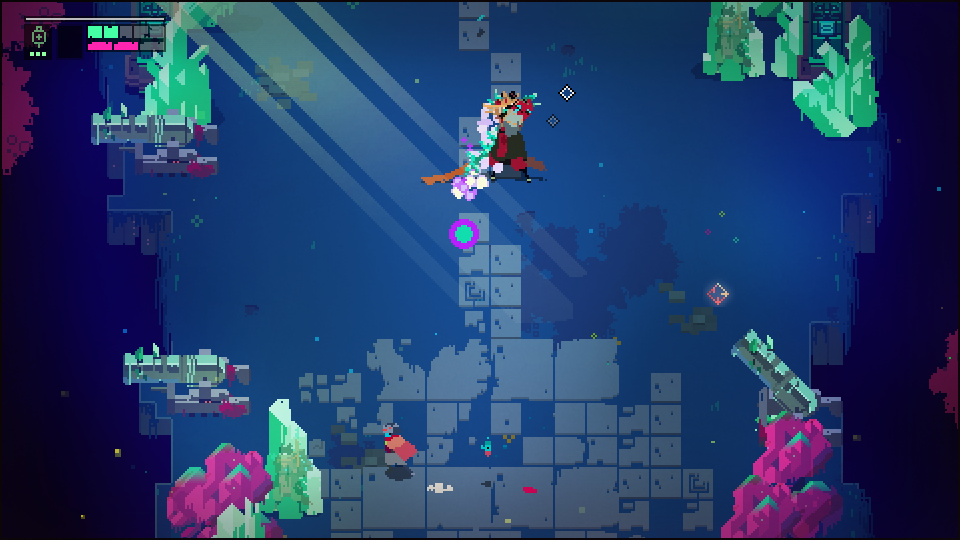hanged_man: (466, 90, 545, 191)
hanged_shot: (446, 218, 478, 250)
player: (383, 421, 418, 468)
